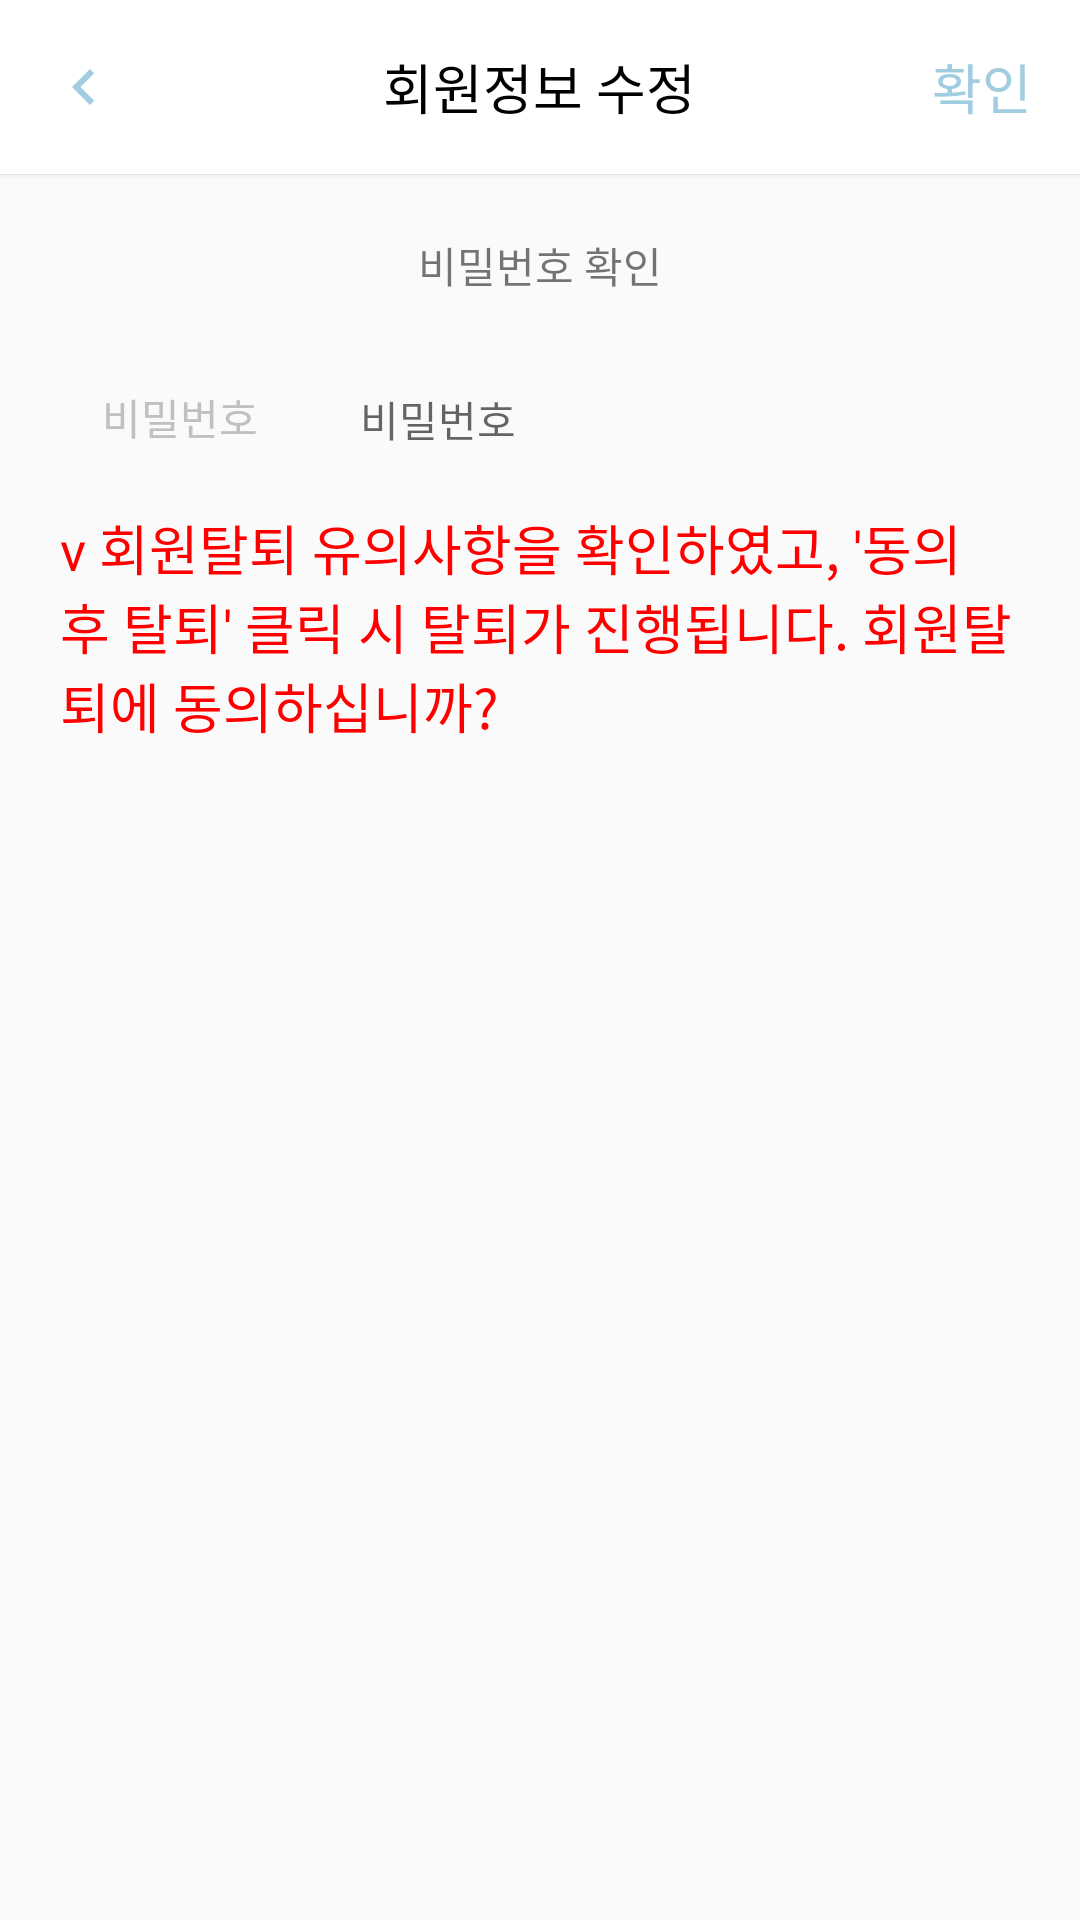

Where icons sit on this 1080x1920 app screen, as (x1, y1, x2, y2):
back: (72, 69, 94, 105)
